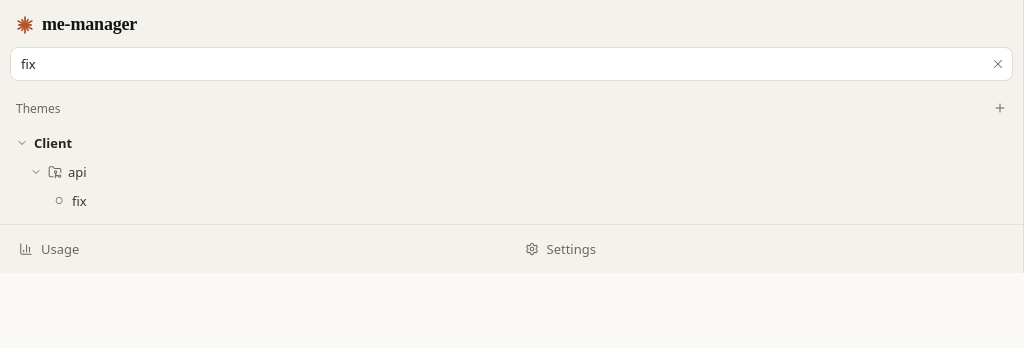
Test: Sidebar header and tree › clears the filter from a button in it, while it holds text, keeping the focus in it
Expected: the button "○ docs" is not shown
Step 1. Click the button named "Clear filter" → click(998, 64), box left=987, top=53, right=1009, bottom=75
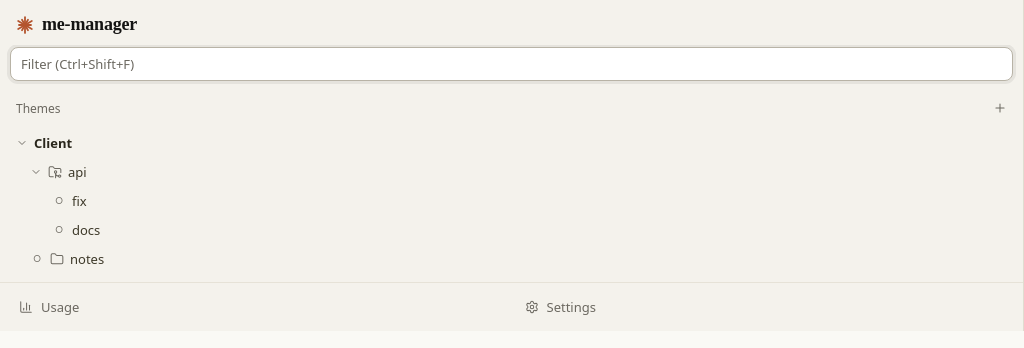
Now the field named "Filter sidebar" is empty, box left=10, top=47, right=1013, bottom=81
Now the button "○ docs" is shown, box left=8, top=216, right=1011, bottom=244
